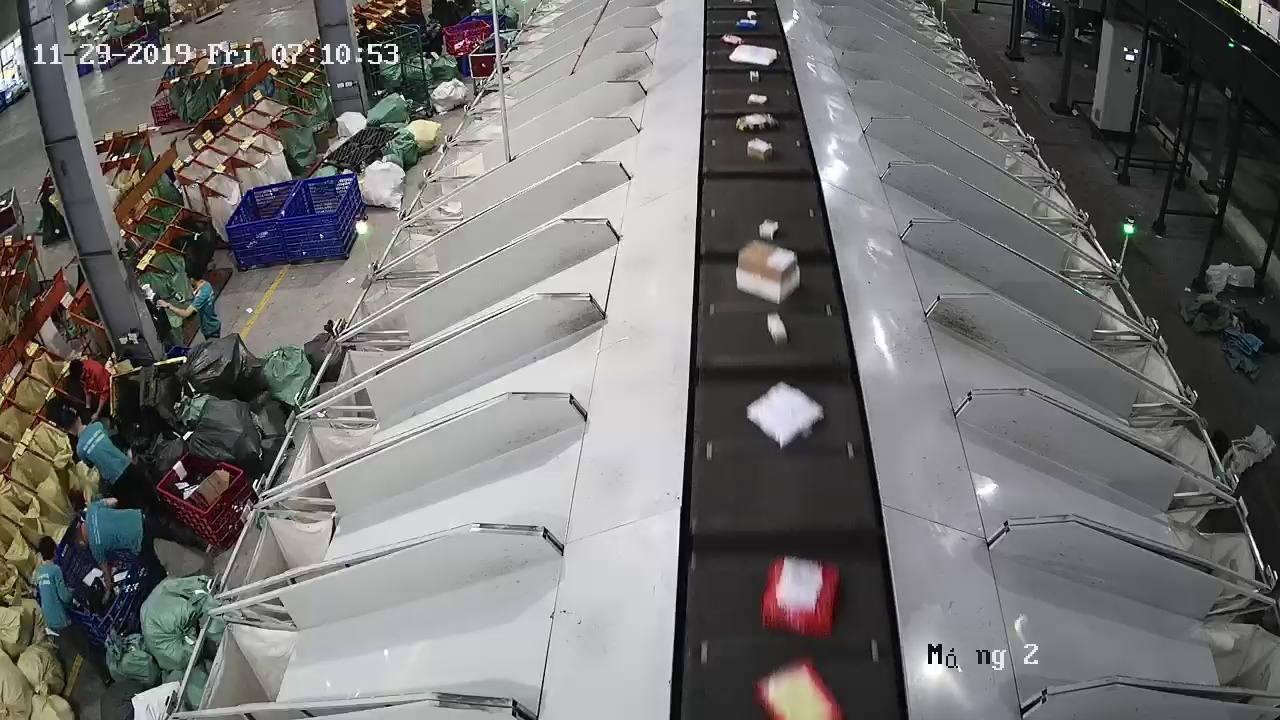parcel: (760, 554, 843, 641), (746, 383, 825, 451), (735, 240, 801, 304), (766, 312, 788, 346), (746, 137, 774, 162), (758, 218, 779, 241)
